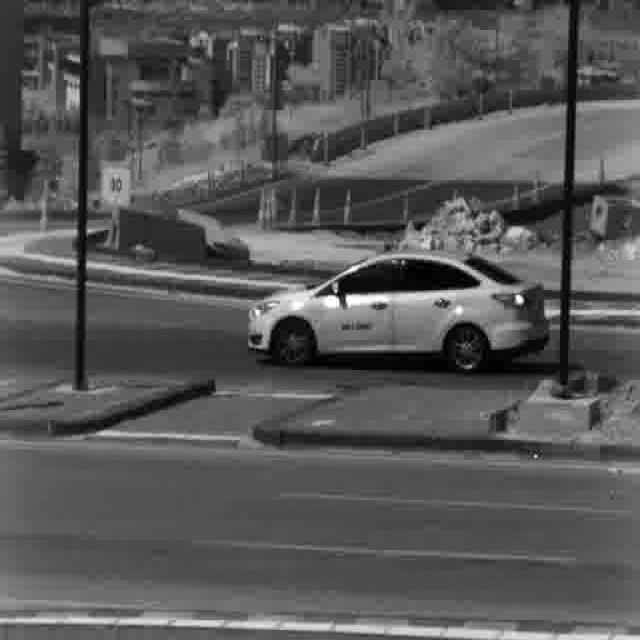Car: (244, 250, 550, 368)
